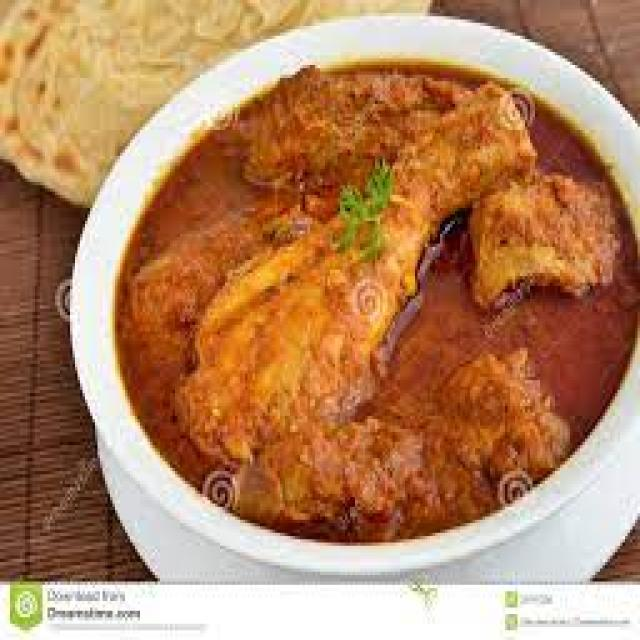Chicken Curry: (115, 61, 637, 542)
